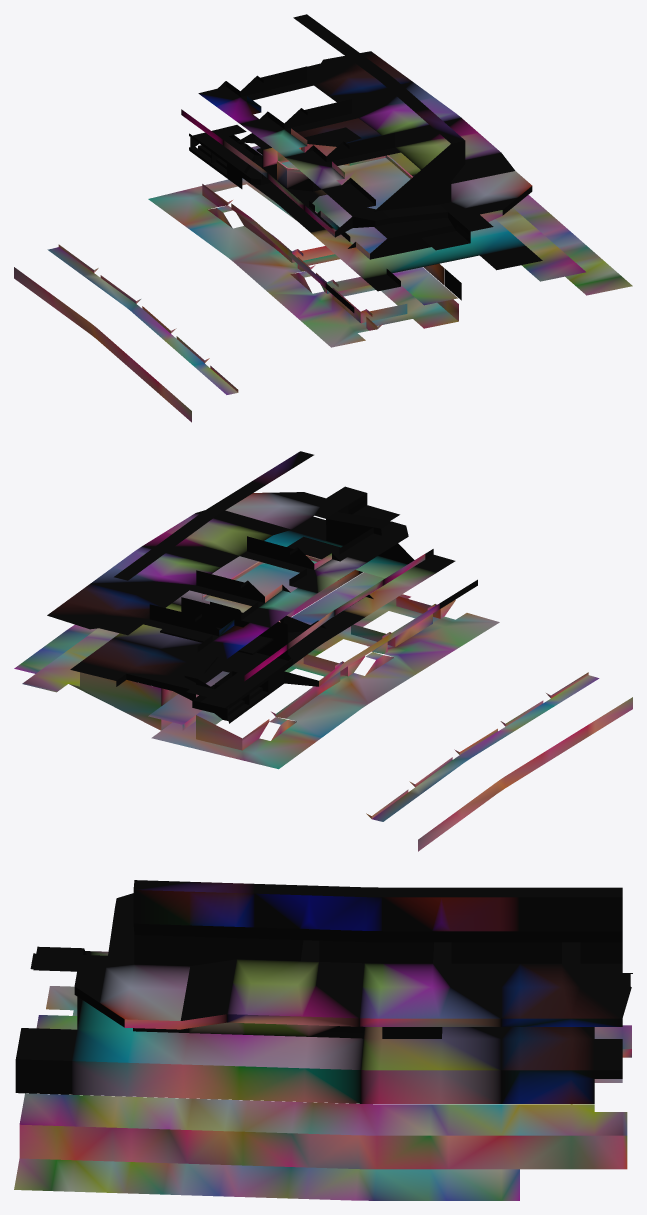
3 views of the same model, one above another, from view 1: azimuth 30°, elevation 25°; view 2: azimuth 150°, elevation 25°; view 3: azimuth 270°, elevation 25° (orthographic). The views are drawn at different scales.
Parts seen in each view (by area): view 1: Base_04; view 2: Base_04; view 3: Base_04.
Boxes of the visible parts, x1,y1,x2,y2 form: Base_04: (14,14,632,422); Base_04: (14,451,632,851); Base_04: (14,880,632,1200).
Bounding box in the file's own units: 101 × 42.24 × 85.08.
